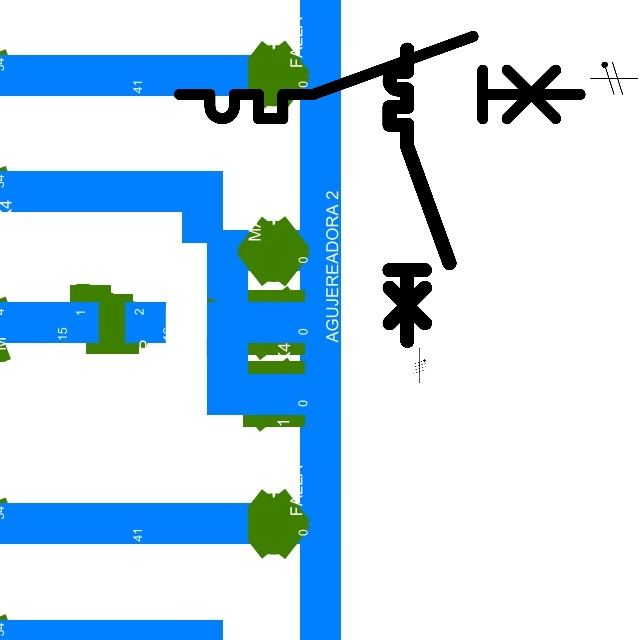interruptor_termomagnetico: (169, 26, 590, 129), (382, 42, 457, 349)
